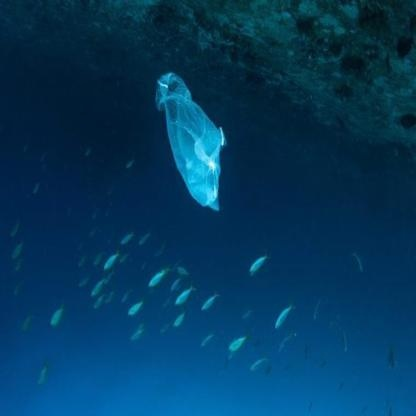pbag: (154, 71, 228, 213)
